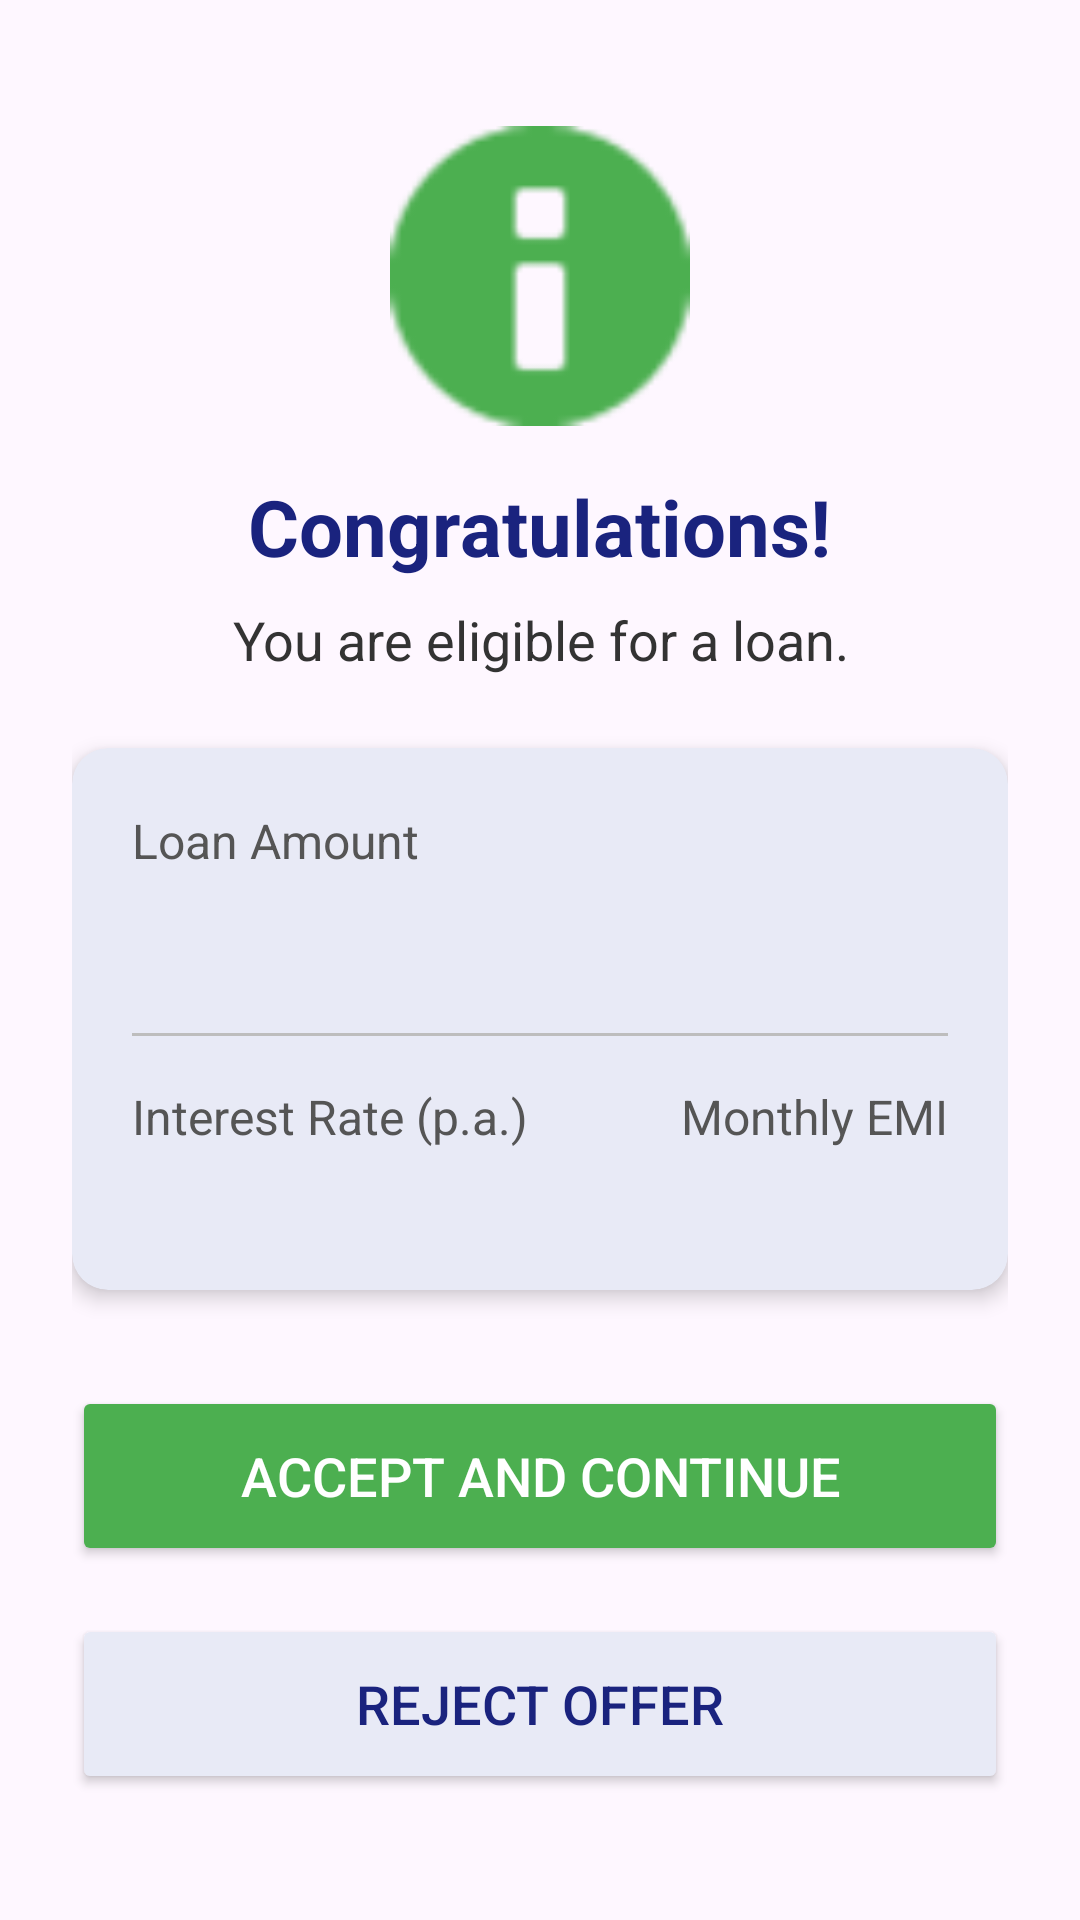

Icon bounding boxes for this 1080w x 1920h phone screenshot, format region(x1, y1, x2, y2):
Offer Status Icon: region(390, 126, 690, 426)
